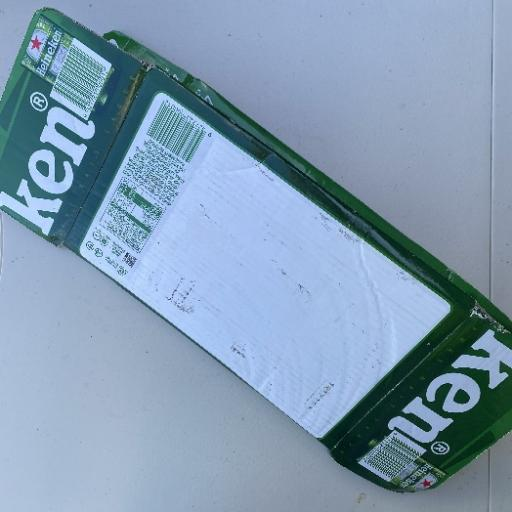Cardboard: (1, 5, 510, 495)
